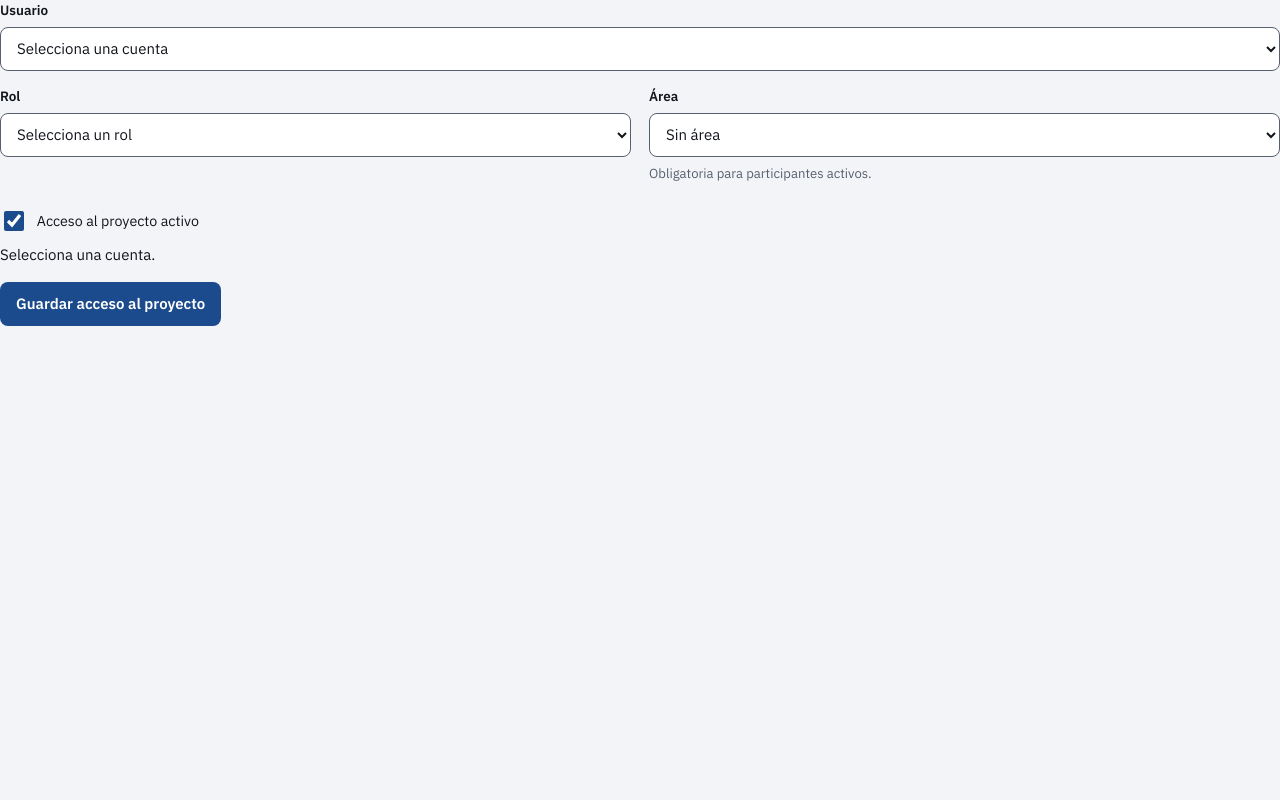
desactivar pide confirmación antes de guardar el acceso inactivo
The width and height of the screenshot is (1280, 800).
Select "Carla · ya está en el proyecto" in the dropdown labelled "Usuario" at [640, 49], box [0, 27, 1279, 71]
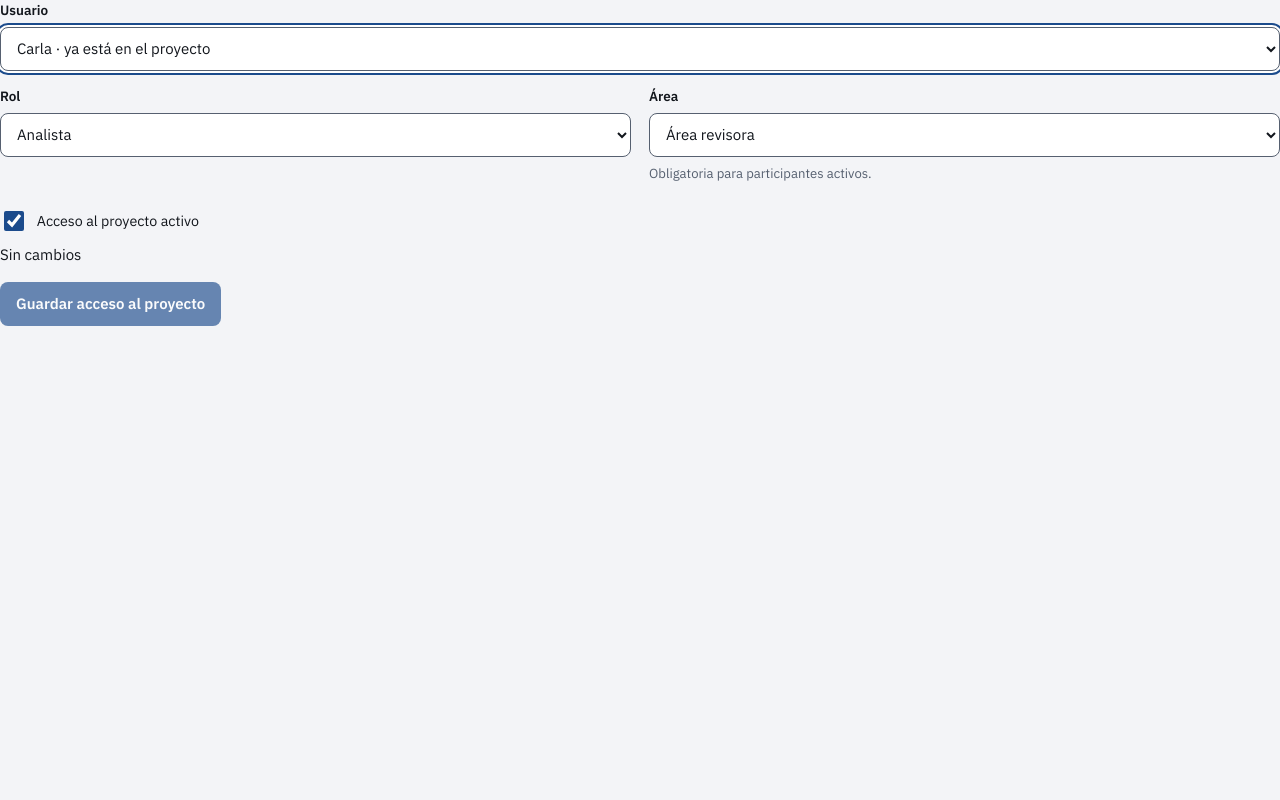
Click the checkbox labelled "Acceso al proyecto activo" at [14, 221], box [4, 211, 24, 231]
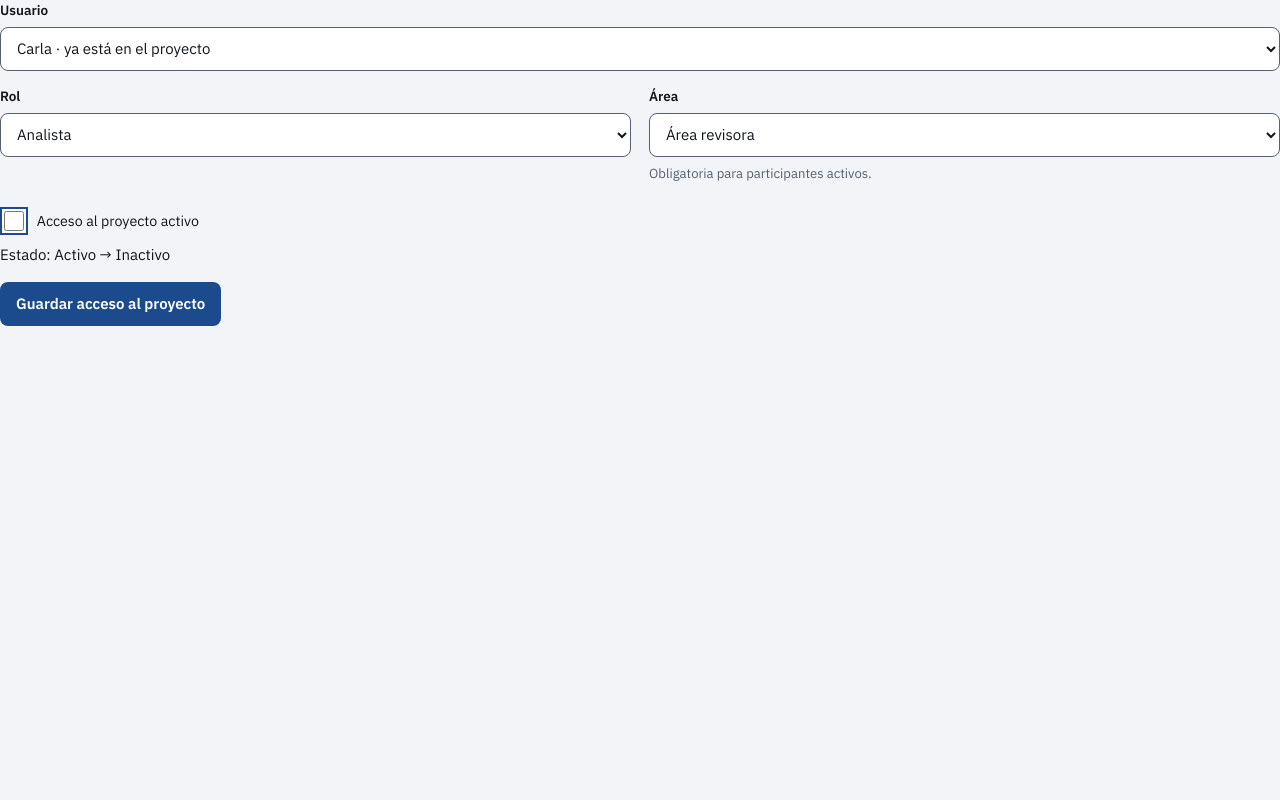
Click the button "Guardar acceso al proyecto" at [111, 304], box [0, 282, 221, 326]
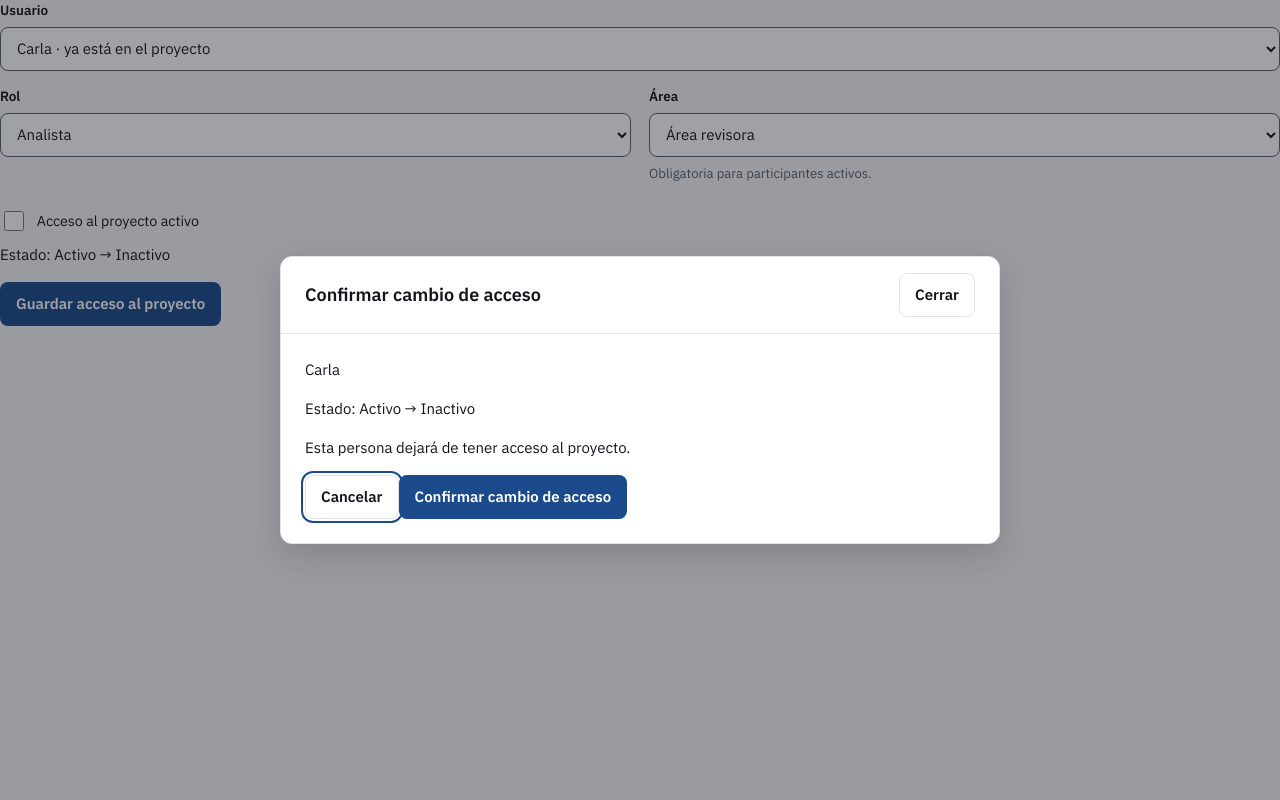
Expected: the text "Esta persona dejará de tener acceso al proyecto." is shown, [305, 438, 630, 457]
Click the button "Confirmar cambio de acceso" at [513, 497], box [398, 475, 627, 519]
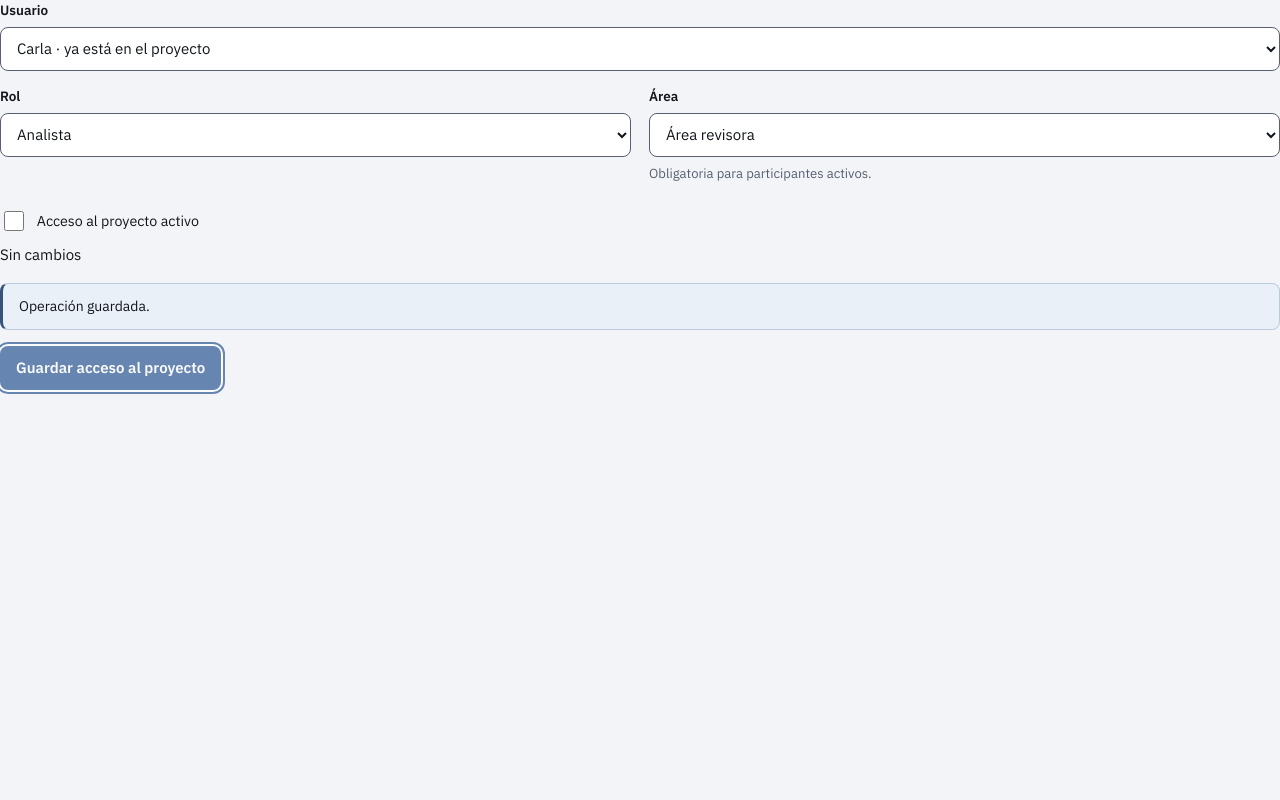
Expected: the text "Operación guardada." is shown, [0, 283, 1279, 330]
